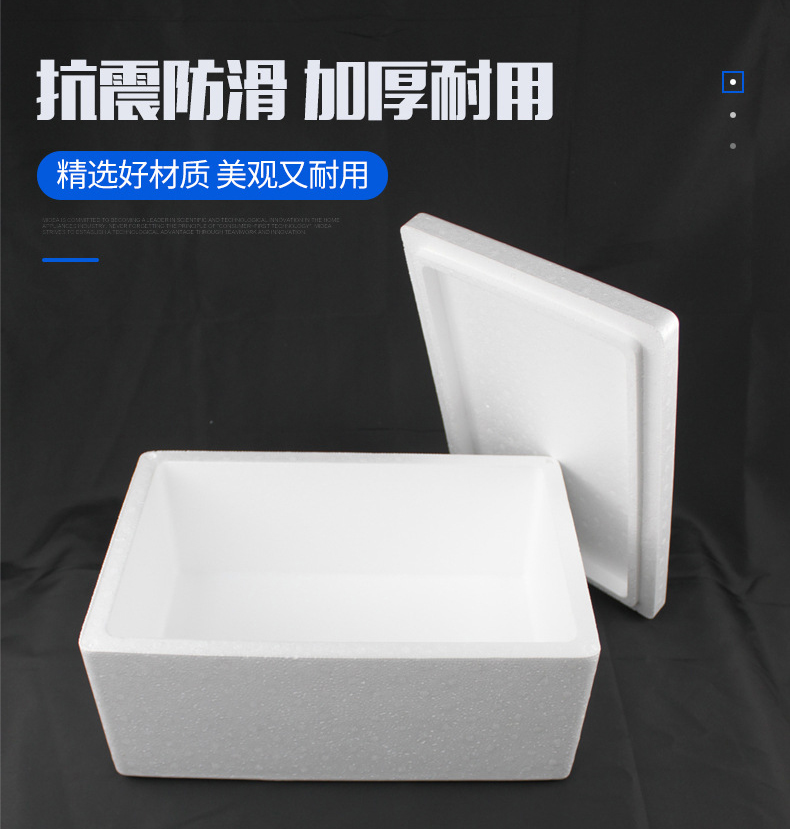泡沫箱: (81, 214, 679, 779)
